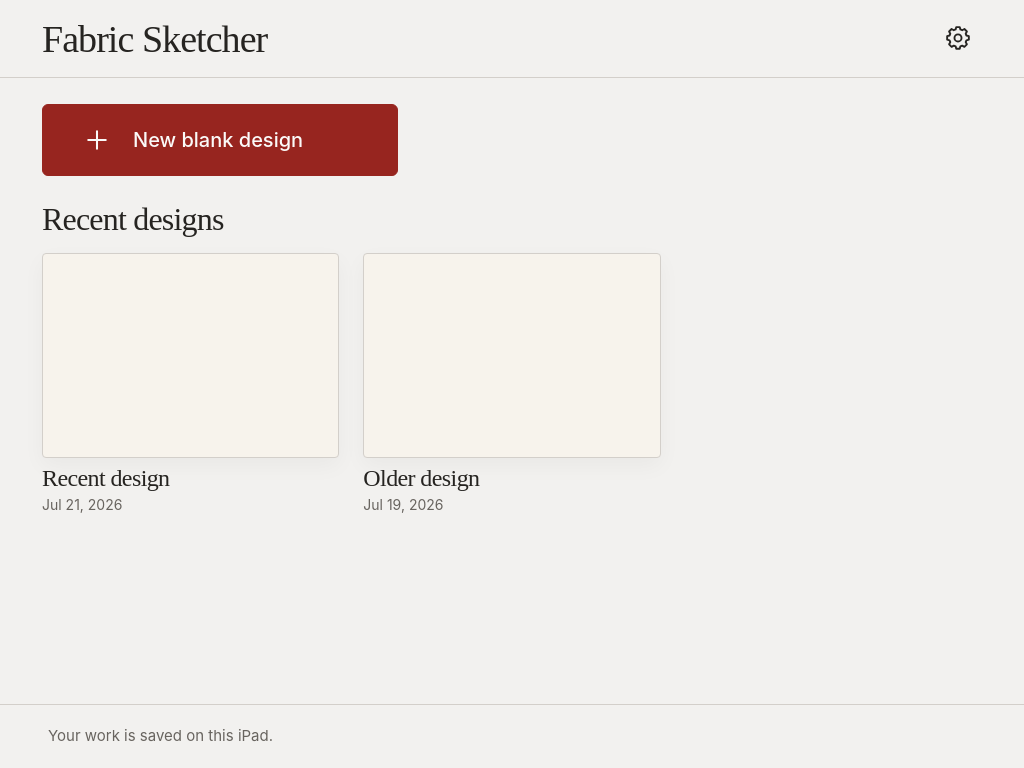
Test case: App › opens recovered artwork when its pinned Foundation asset is unavailable
Expected: the text "Recent design" is shown, [42,465,170,491]
Click the button "Recent design Jul 21, 2026": [191, 384] box [42,253,339,514]
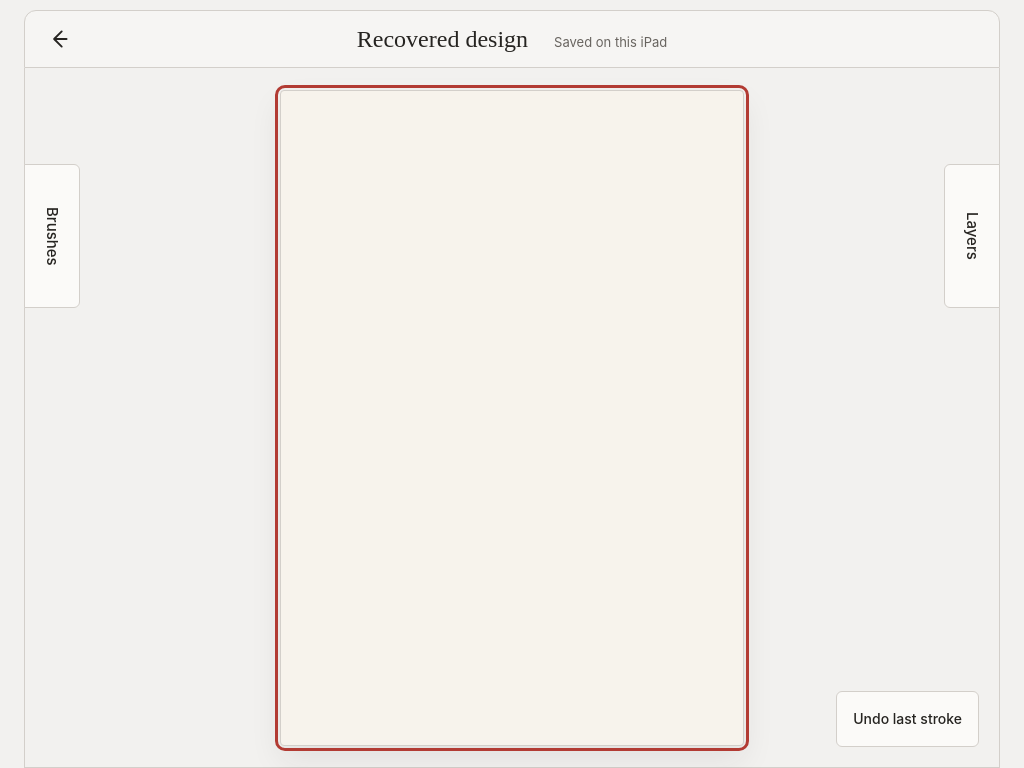
Now the heading "Recovered design" is shown, box [357,26,528,52]
